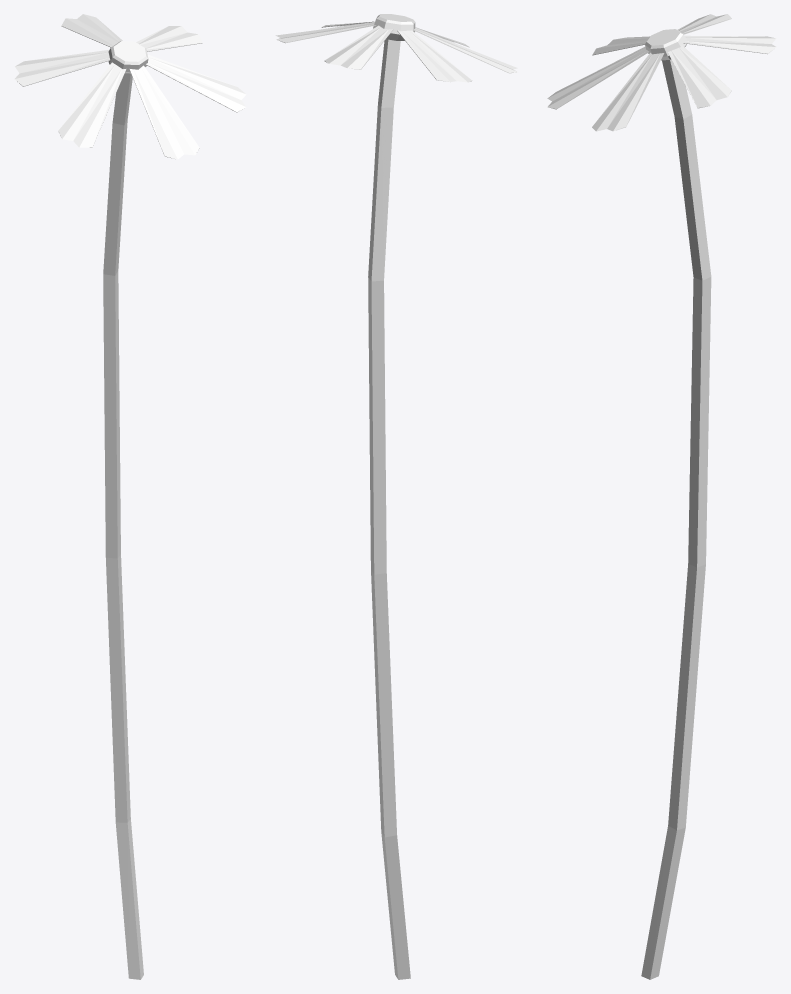
Rendered from Env_Flowers_09.glb.
3 renders of one model, left to right at view 1: azimuth 30°, elevation 25°; view 2: azimuth 150°, elevation 25°; view 3: azimuth 270°, elevation 25°, orthographic. The views are drawn at different scales.
Parts seen in each view (by area): view 1: Env_Flowers_09; view 2: Env_Flowers_09; view 3: Env_Flowers_09.
Boxes of the visible parts, x1,y1,x2,y2 form: Env_Flowers_09: [14, 14, 246, 979]; Env_Flowers_09: [275, 14, 517, 979]; Env_Flowers_09: [547, 14, 776, 979].
Size of the model in its own units: 0.1215 by 0.5822 by 0.1283.
Materials: 1 (1 with a texture image).
